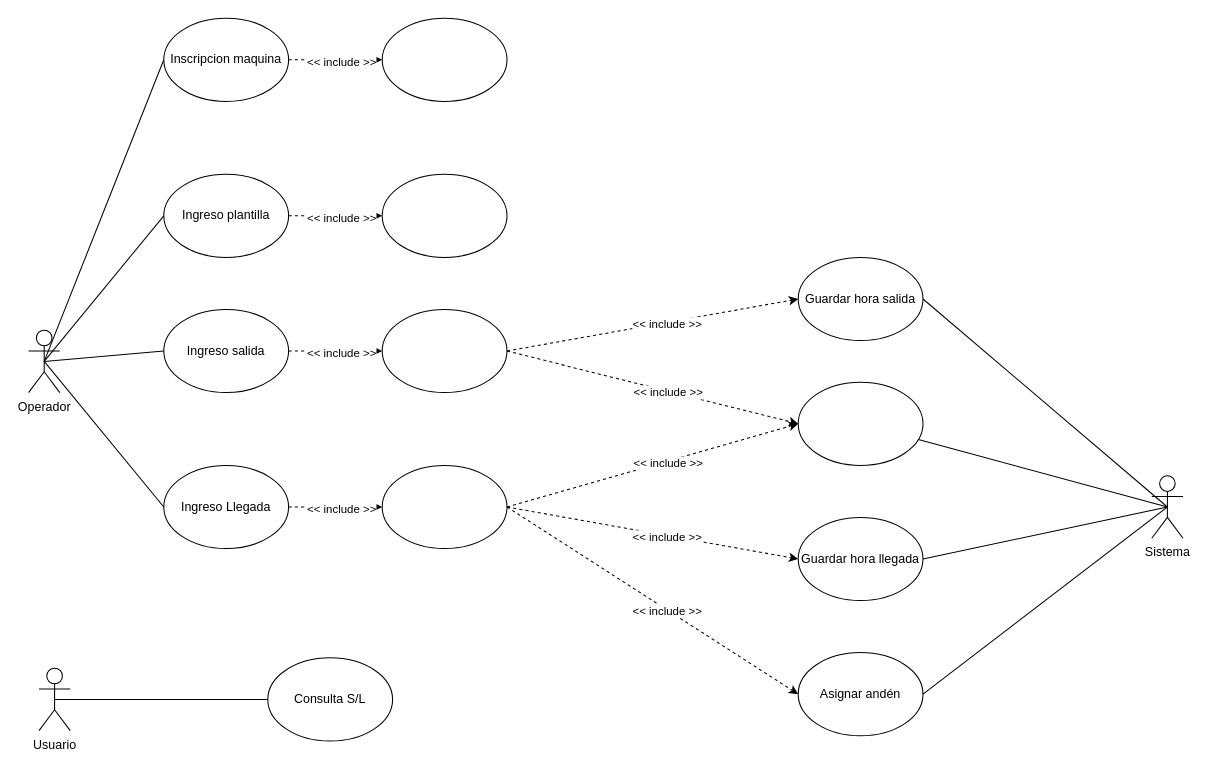
Some shapes in this 1207 by 771 pixel diagram are drawn without their labels. The centre of each missing label's shape, as x and y in pixels:
"Actualizar andén" belongs at point (860, 423).
"Generar plantilla" belongs at point (444, 215).
"Ingresar datos autobus" belongs at point (444, 59).
"Ingresar patente llegada" belongs at point (444, 506).
"Ingresar patente salida" belongs at point (444, 350).
